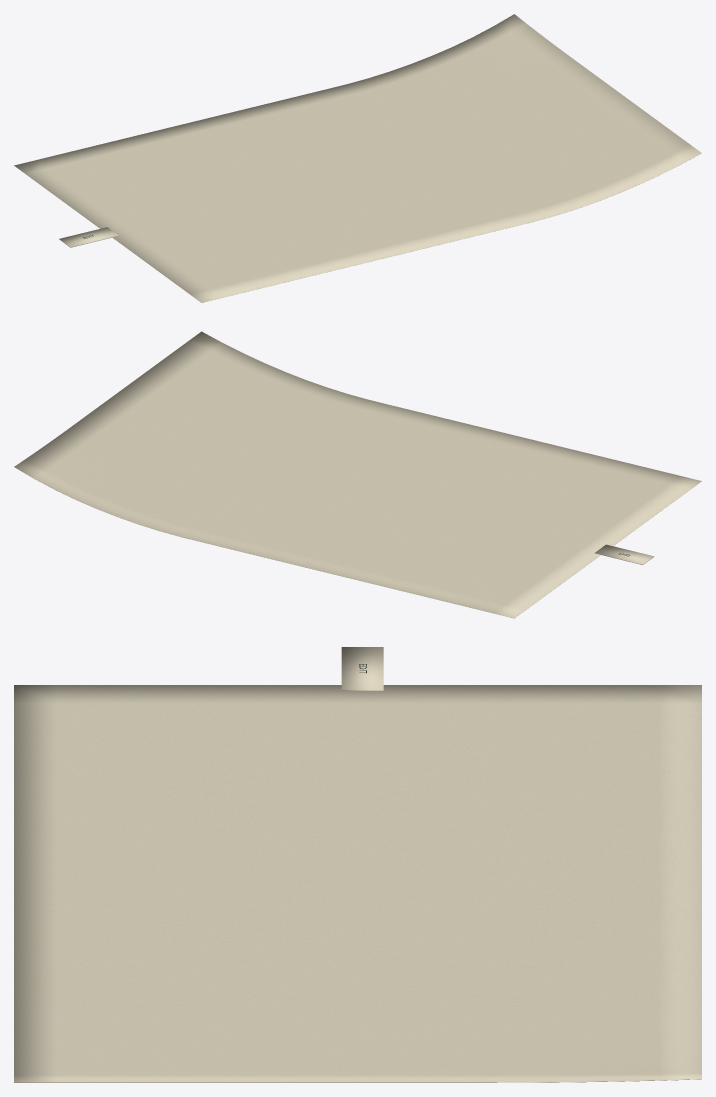
The model's file is workpaper_edit.glb.
3 views of the same model, one above another, from view 1: azimuth 30°, elevation 25°; view 2: azimuth 150°, elevation 25°; view 3: azimuth 270°, elevation 25° (orthographic). The views are drawn at different scales.
Visible parts, largest first — view 1: workpaper_edit__PaperSurface, workpaper_edit__Tab; view 2: workpaper_edit__PaperSurface, workpaper_edit__Tab; view 3: workpaper_edit__PaperSurface, workpaper_edit__Tab.
Part boxes in pixels (<box>): workpaper_edit__PaperSurface: <box>14,14,701,302</box>; workpaper_edit__Tab: <box>59,227,118,247</box>; workpaper_edit__PaperSurface: <box>14,331,701,618</box>; workpaper_edit__Tab: <box>595,544,654,564</box>; workpaper_edit__PaperSurface: <box>14,685,701,1082</box>; workpaper_edit__Tab: <box>341,647,383,690</box>.
Size of the model in its own units: 1.24 by 0.0644 by 0.74.
3 materials, 2 textured.
